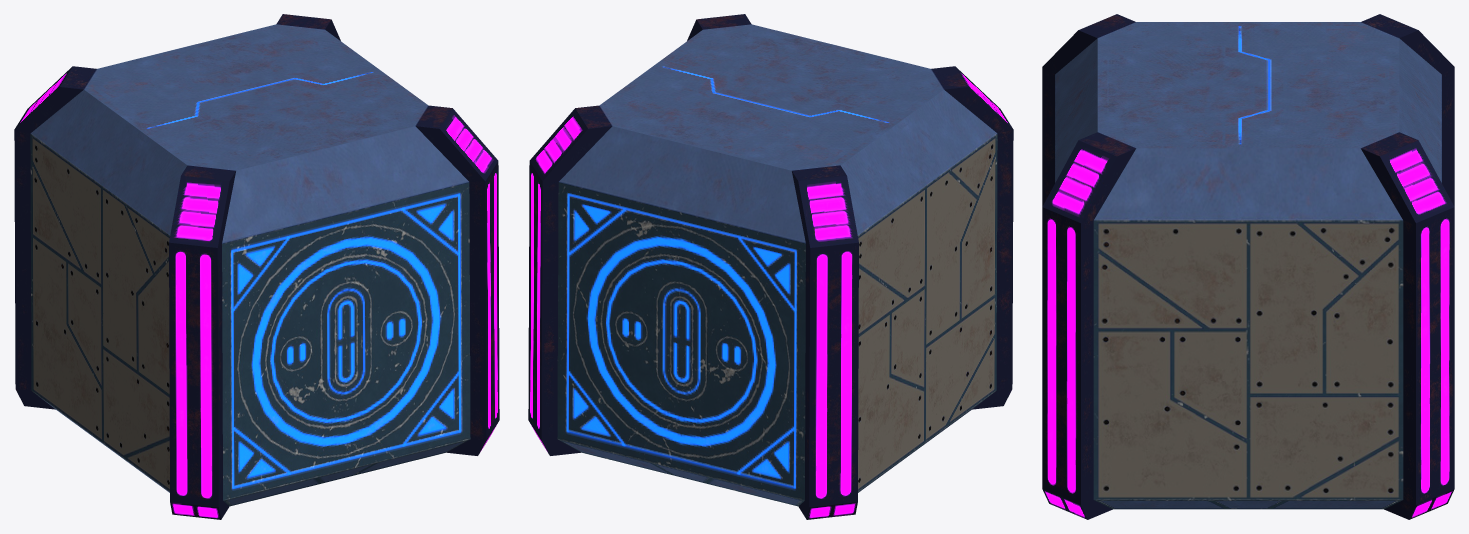
The model's file is sci-fi_crate.glb.
3 views of the same model, side by side, from view 1: azimuth 30°, elevation 25°; view 2: azimuth 150°, elevation 25°; view 3: azimuth 270°, elevation 25° (orthographic). The views are drawn at different scales.
Parts seen in each view (by area): view 1: LowPolyCrate; view 2: LowPolyCrate; view 3: LowPolyCrate.
Boxes of the visible parts, bbox=[...] form: LowPolyCrate: bbox=[14, 14, 499, 519]; LowPolyCrate: bbox=[528, 14, 1013, 519]; LowPolyCrate: bbox=[1042, 14, 1454, 519].
Size of the model in its own units: 0.6958 by 0.6534 by 0.6935.
Materials: 1 (1 with a texture image).
